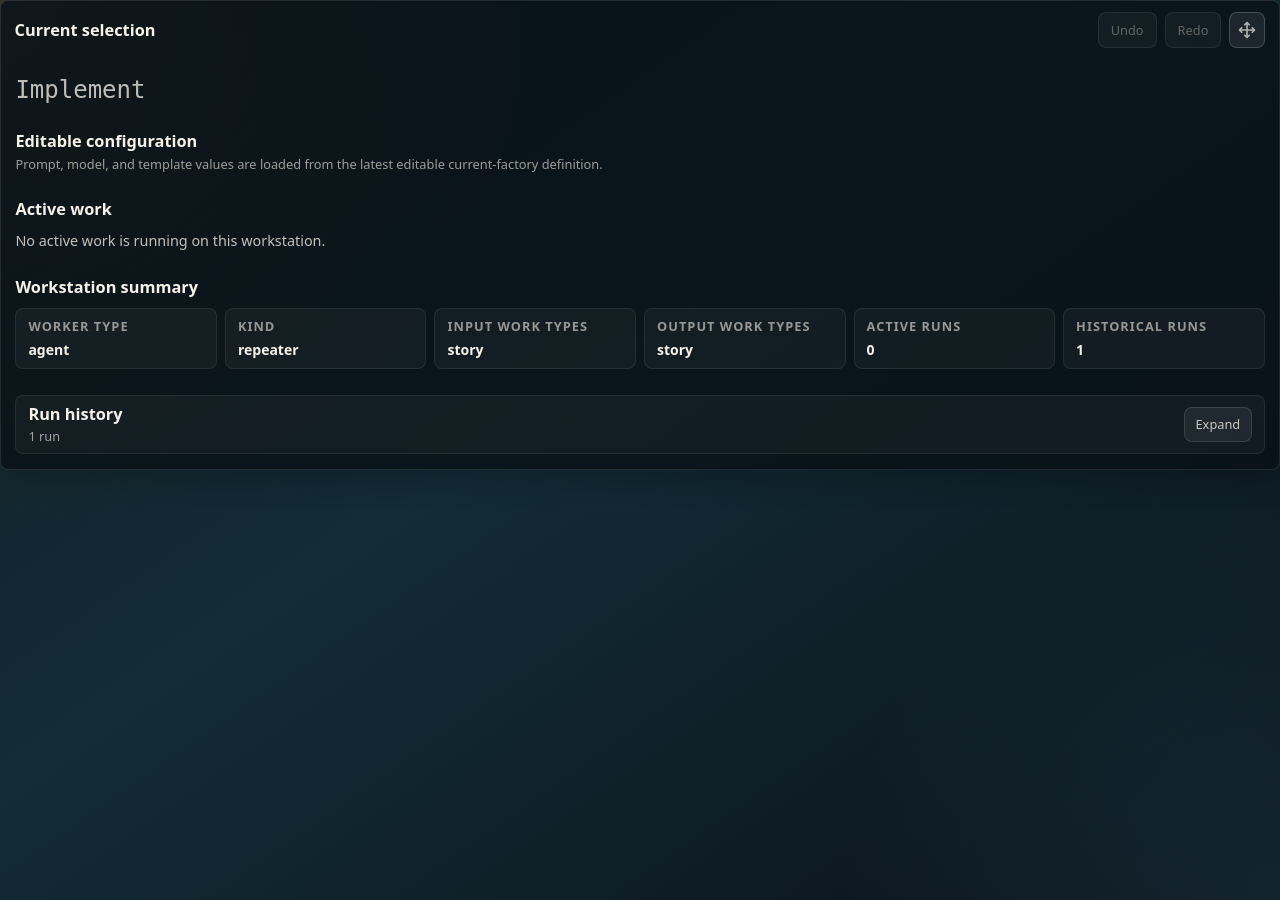
Scenario: WorkstationDetailCard › renders selected workstation empty active-work guidance with compact counts
This screenshot has width=1280, height=900.
expect the text "No active work is running on this workstation." is shown: met, box [15, 230, 325, 250]
expect the text "Active runs" is shown: met, box [866, 317, 961, 335]
Click the button "Expand" at {"x": 1218, "y": 424}, box [1184, 407, 1252, 442]
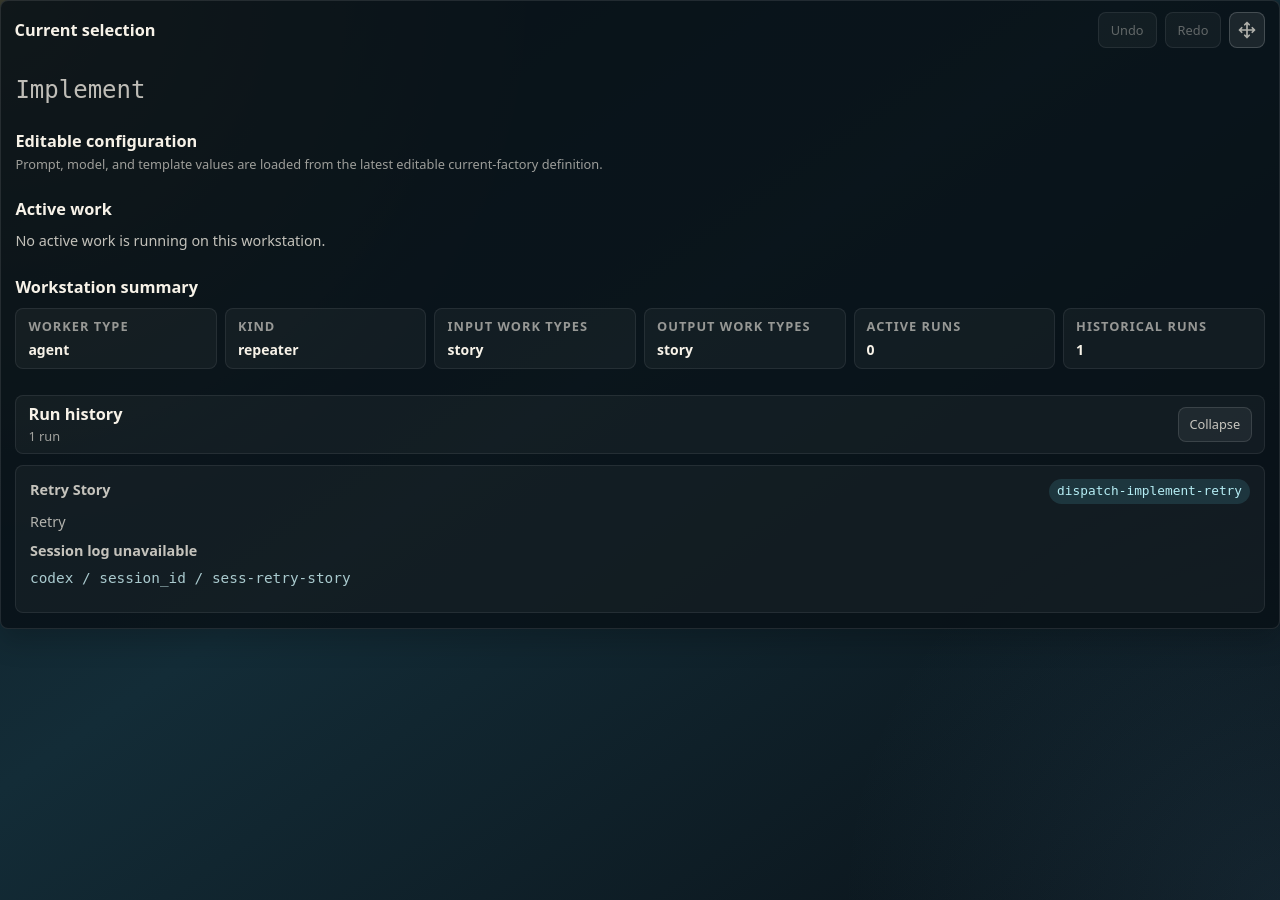
expect the text "Retry Story" is shown: met, box [30, 479, 110, 502]
expect the text "Session log unavailable" is shown: met, box [30, 541, 197, 560]
